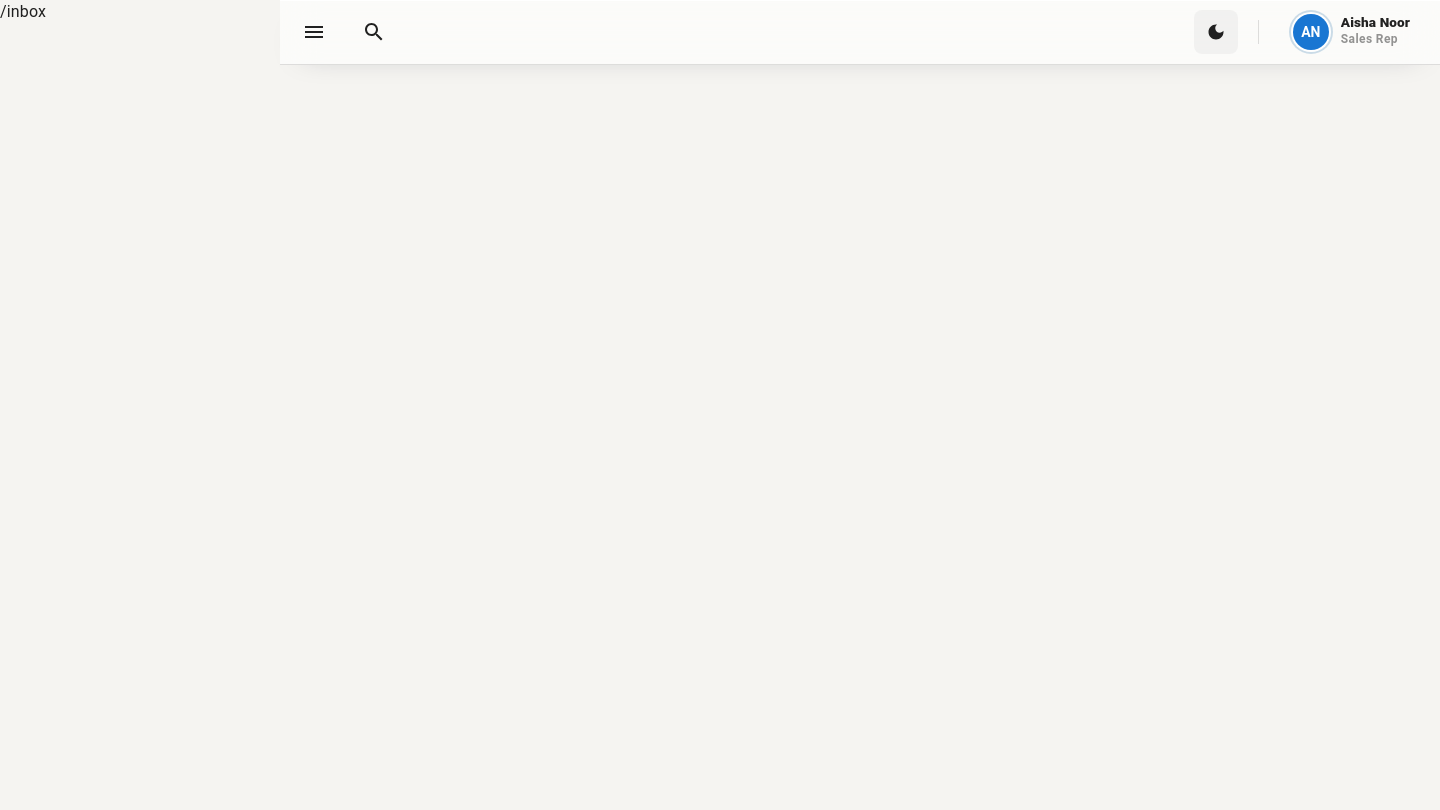
Test: Navbar global search › offers a full-screen search entry when the viewport is below the desktop breakpoint
This screenshot has width=1440, height=810.
Click the button named "Open global search" at (374, 32), box left=352, top=10, right=396, bottom=54
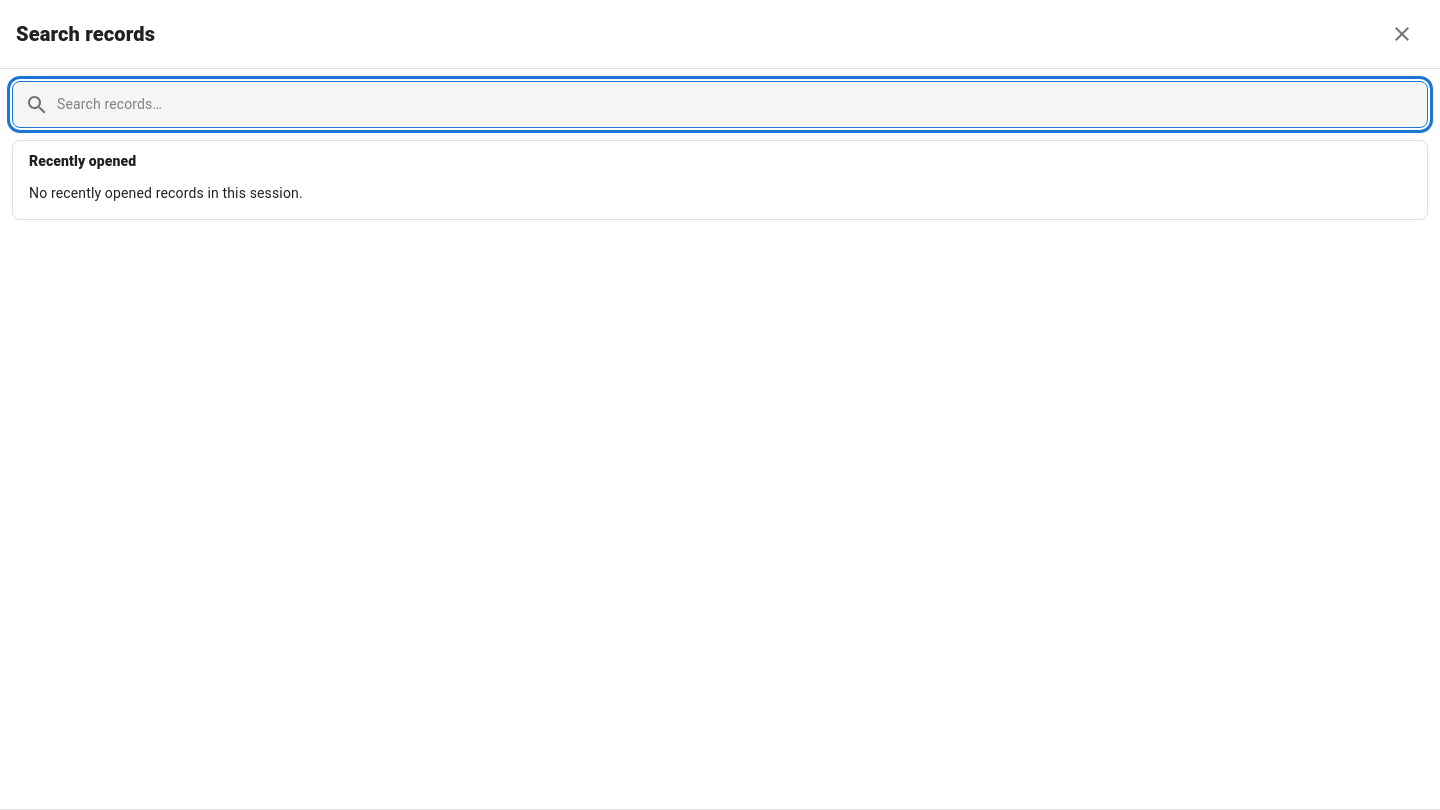
Check: the dialog "Search records" is shown
Check: the text "No recently opened records in this session." is shown, box left=29, top=185, right=303, bottom=201
